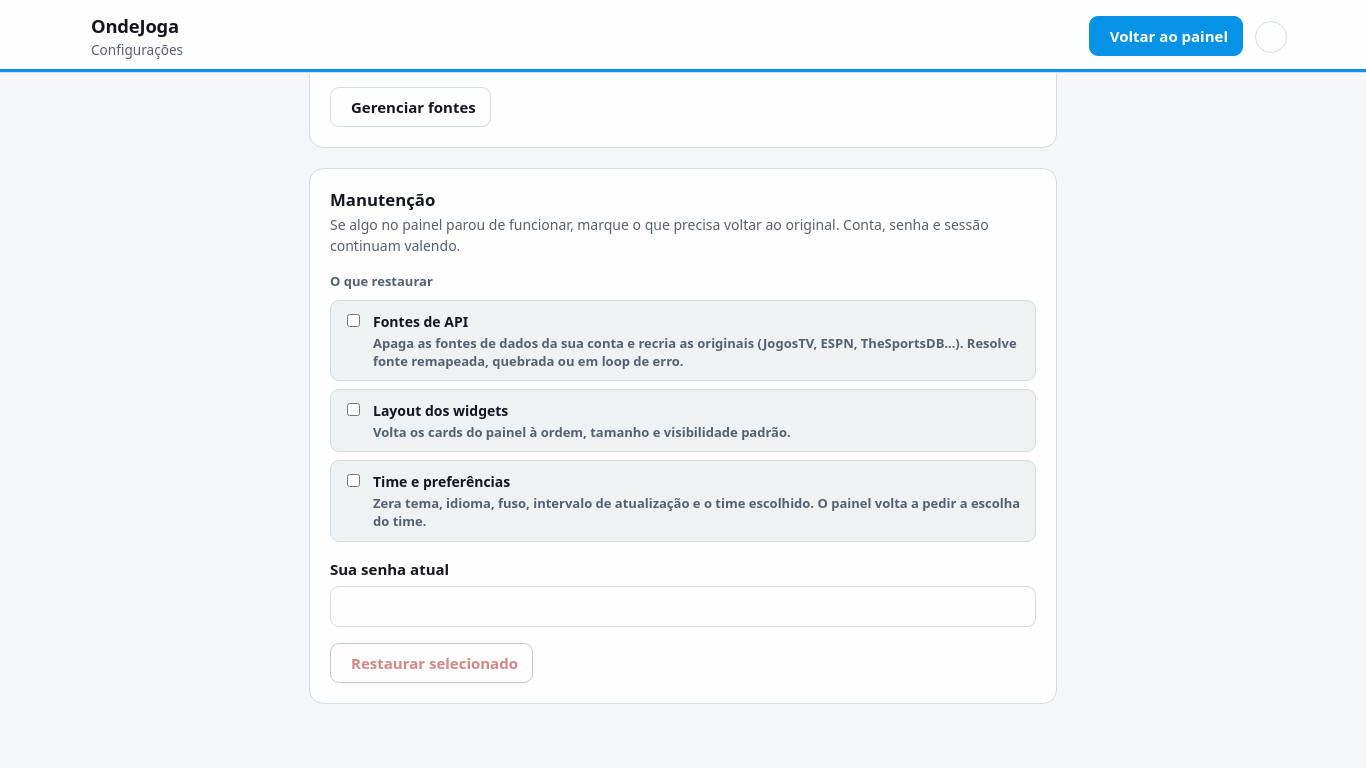
tela de Configurações › mostra o erro quando a senha está errada
The width and height of the screenshot is (1366, 768).
(page scrolled)
Click the checkbox labelled "Layout dos widgets" at (354, 409), box x1=347 y1=403 x2=360 y2=416
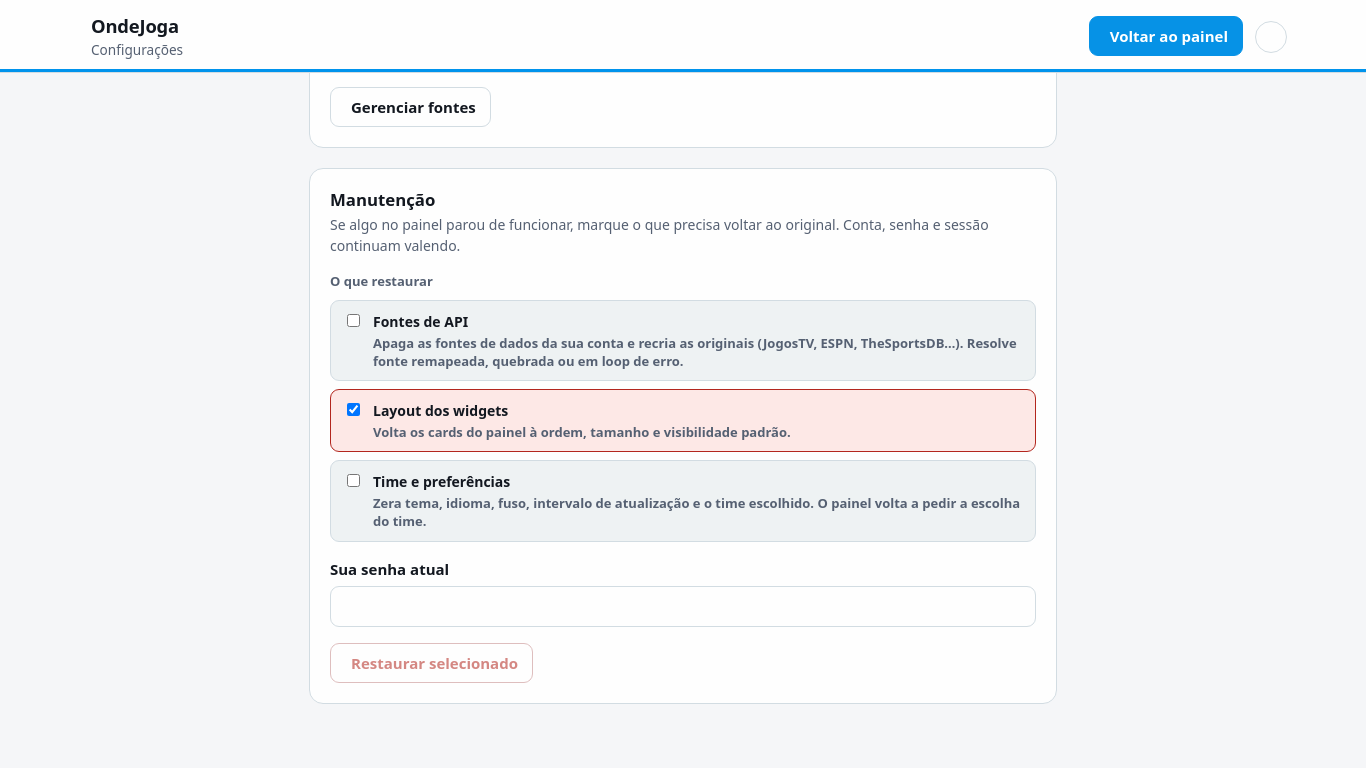
Type "errada" into the password field labelled "Sua senha atual" at (683, 606), box x1=330 y1=586 x2=1036 y2=626
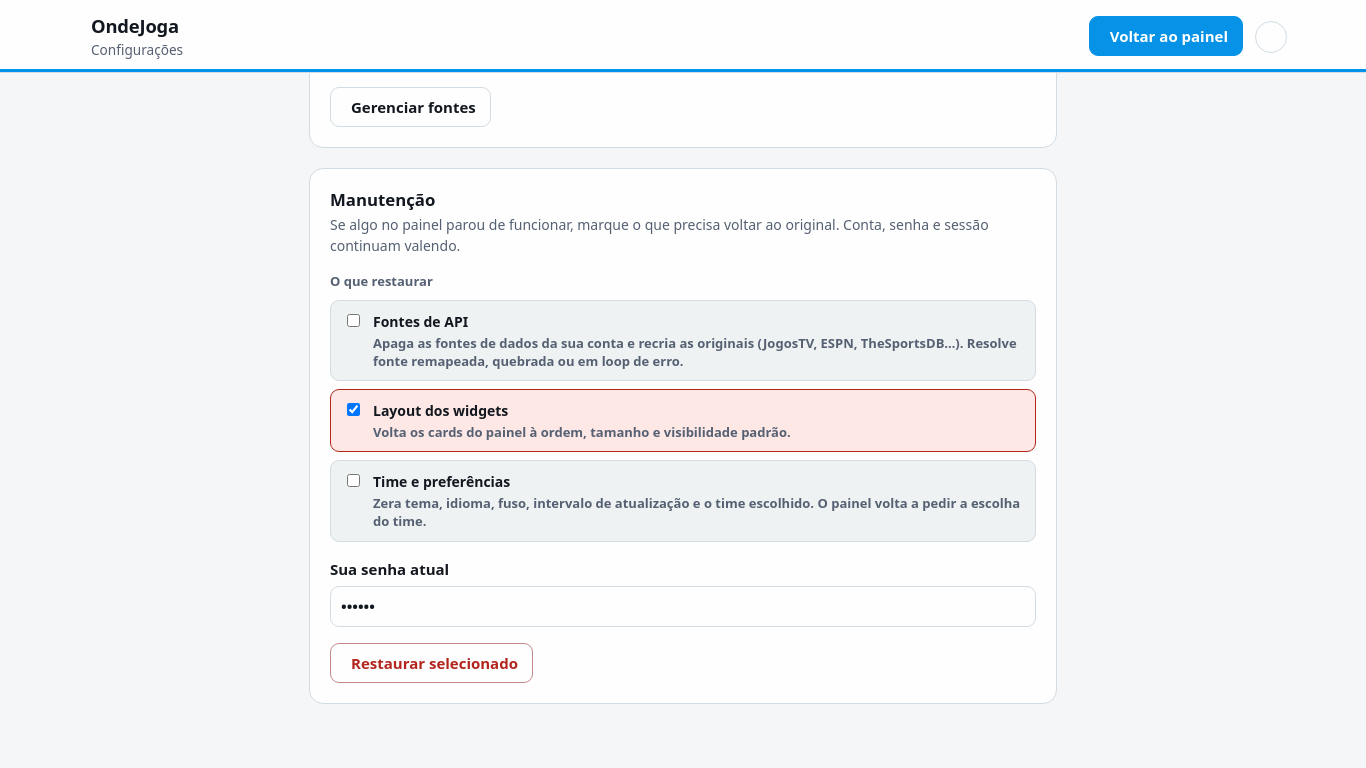
Click the button "Restaurar selecionado" at (432, 663), box x1=330 y1=642 x2=533 y2=683
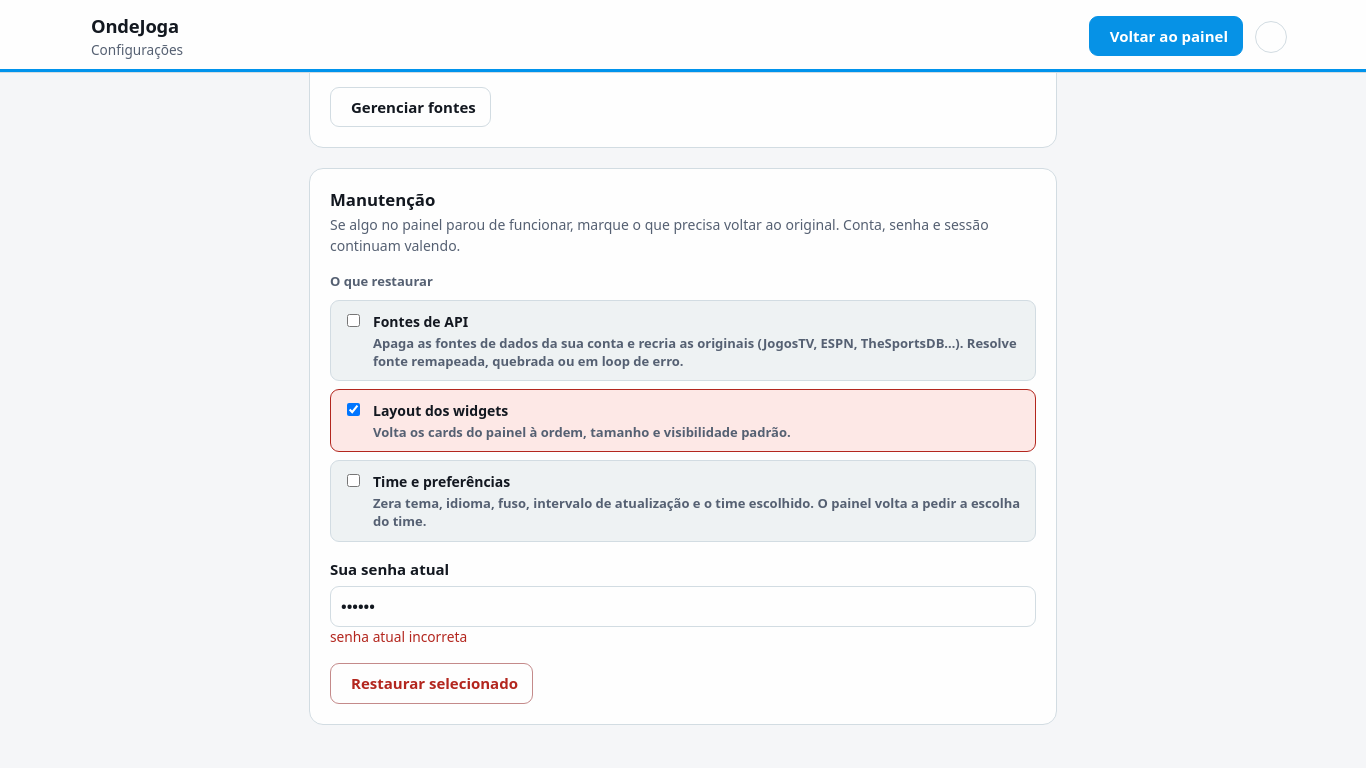
expect the checkbox labelled "Layout dos widgets" is checked: met, box x1=347 y1=403 x2=360 y2=416
expect the message reads "senha atual incorreta": met, box x1=330 y1=626 x2=467 y2=646
